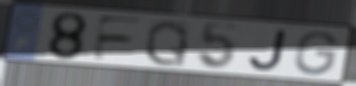5: (197, 22, 240, 72)
8: (47, 11, 89, 62)
F: (88, 14, 147, 63)
G: (292, 30, 340, 77)
J: (246, 28, 289, 73)
Q: (143, 18, 192, 68)
